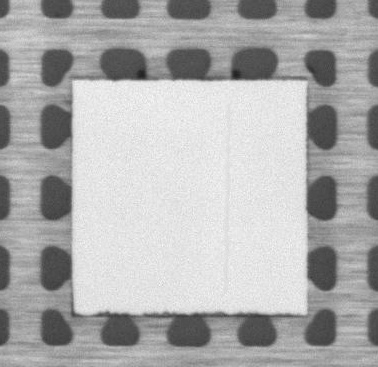DIE_CRACK: (233, 102, 236, 284)
